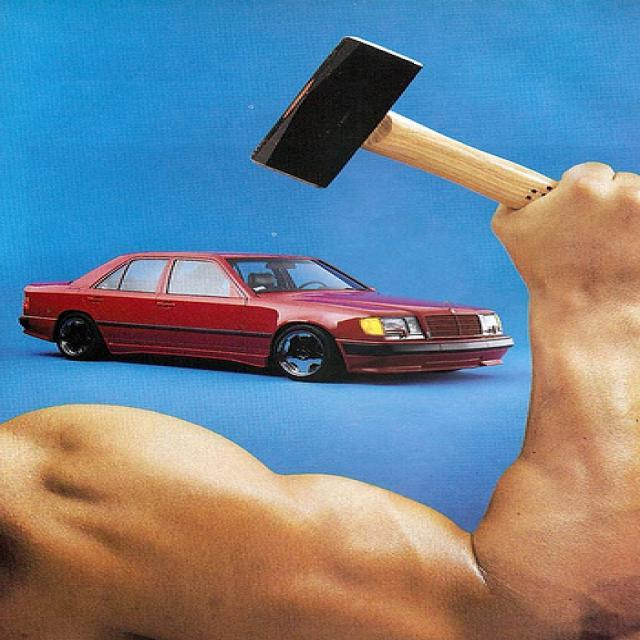hammer: (244, 30, 623, 224)
